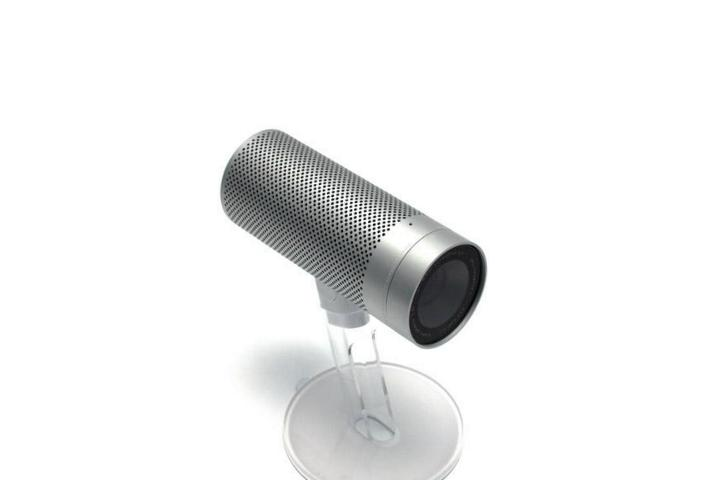webcam: (212, 123, 495, 374)
